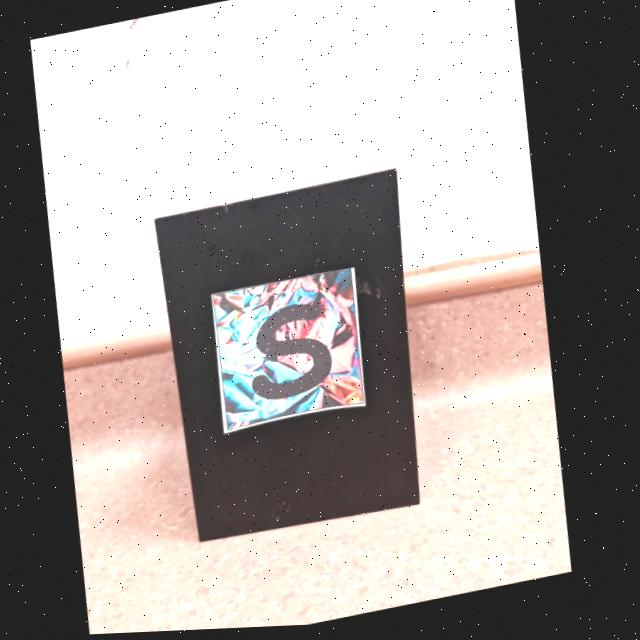S: (257, 309, 336, 402)
